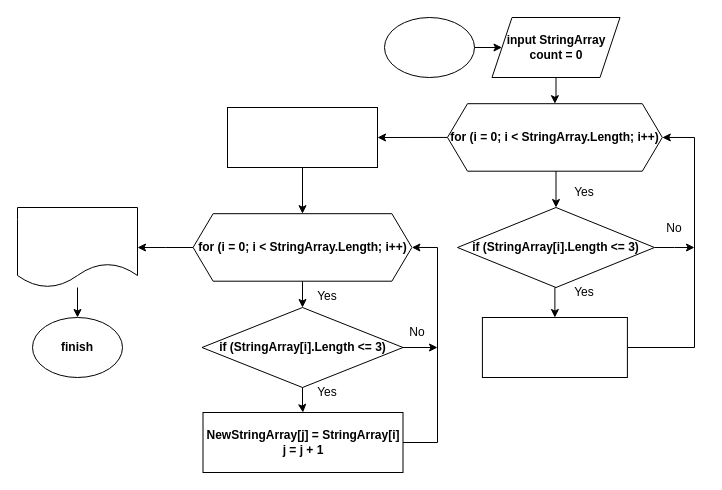
Image size: 722x490. Some labels were removed from this diagram. The shapes that lost their labels are listed below. From the top down, each one's centre as x and y in pixels, then its label:
At point 429,47: "start".
At point 302,137: "NewStringArray[count] j = 0".
At point 77,247: "Print (NewStringArray)".
At point 554,347: "count = count + 1".
